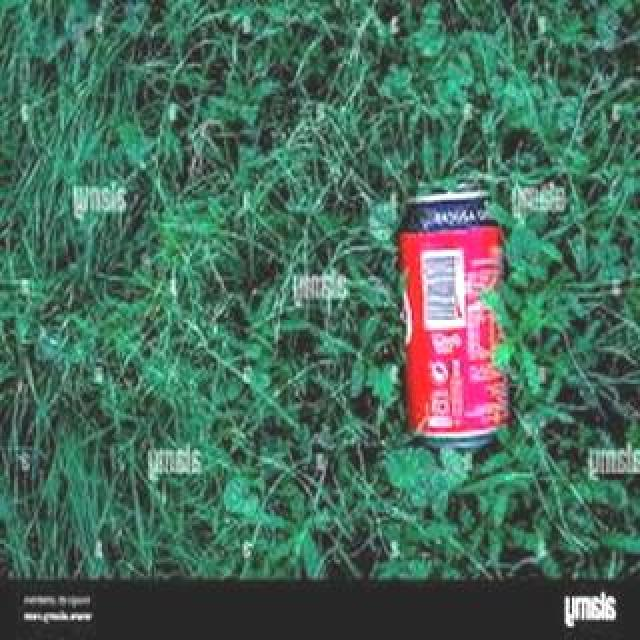Can: (384, 177, 518, 459)
